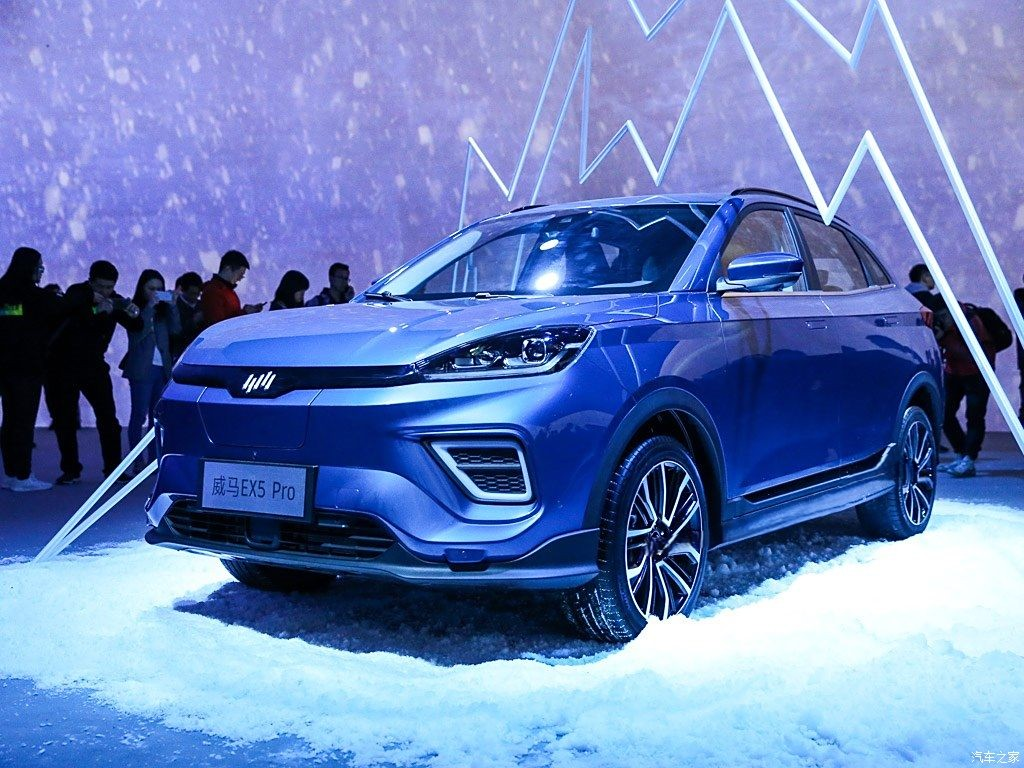WELTMEISTER: (243, 371, 275, 392)
